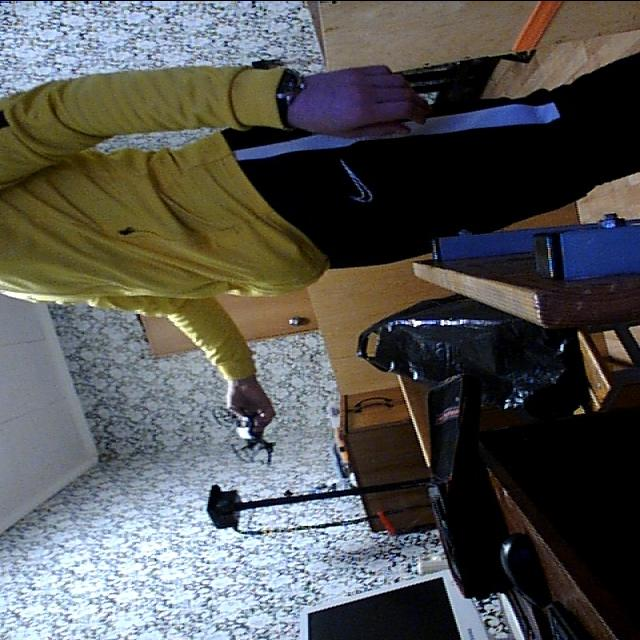drone: (206, 398, 276, 466)
